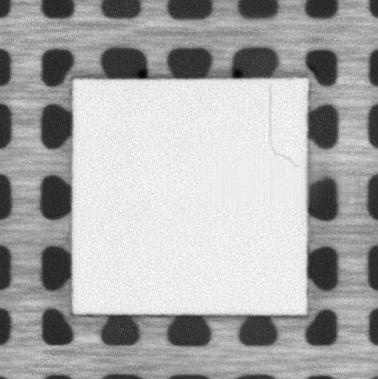DIE_CRACK: (264, 84, 297, 168)
